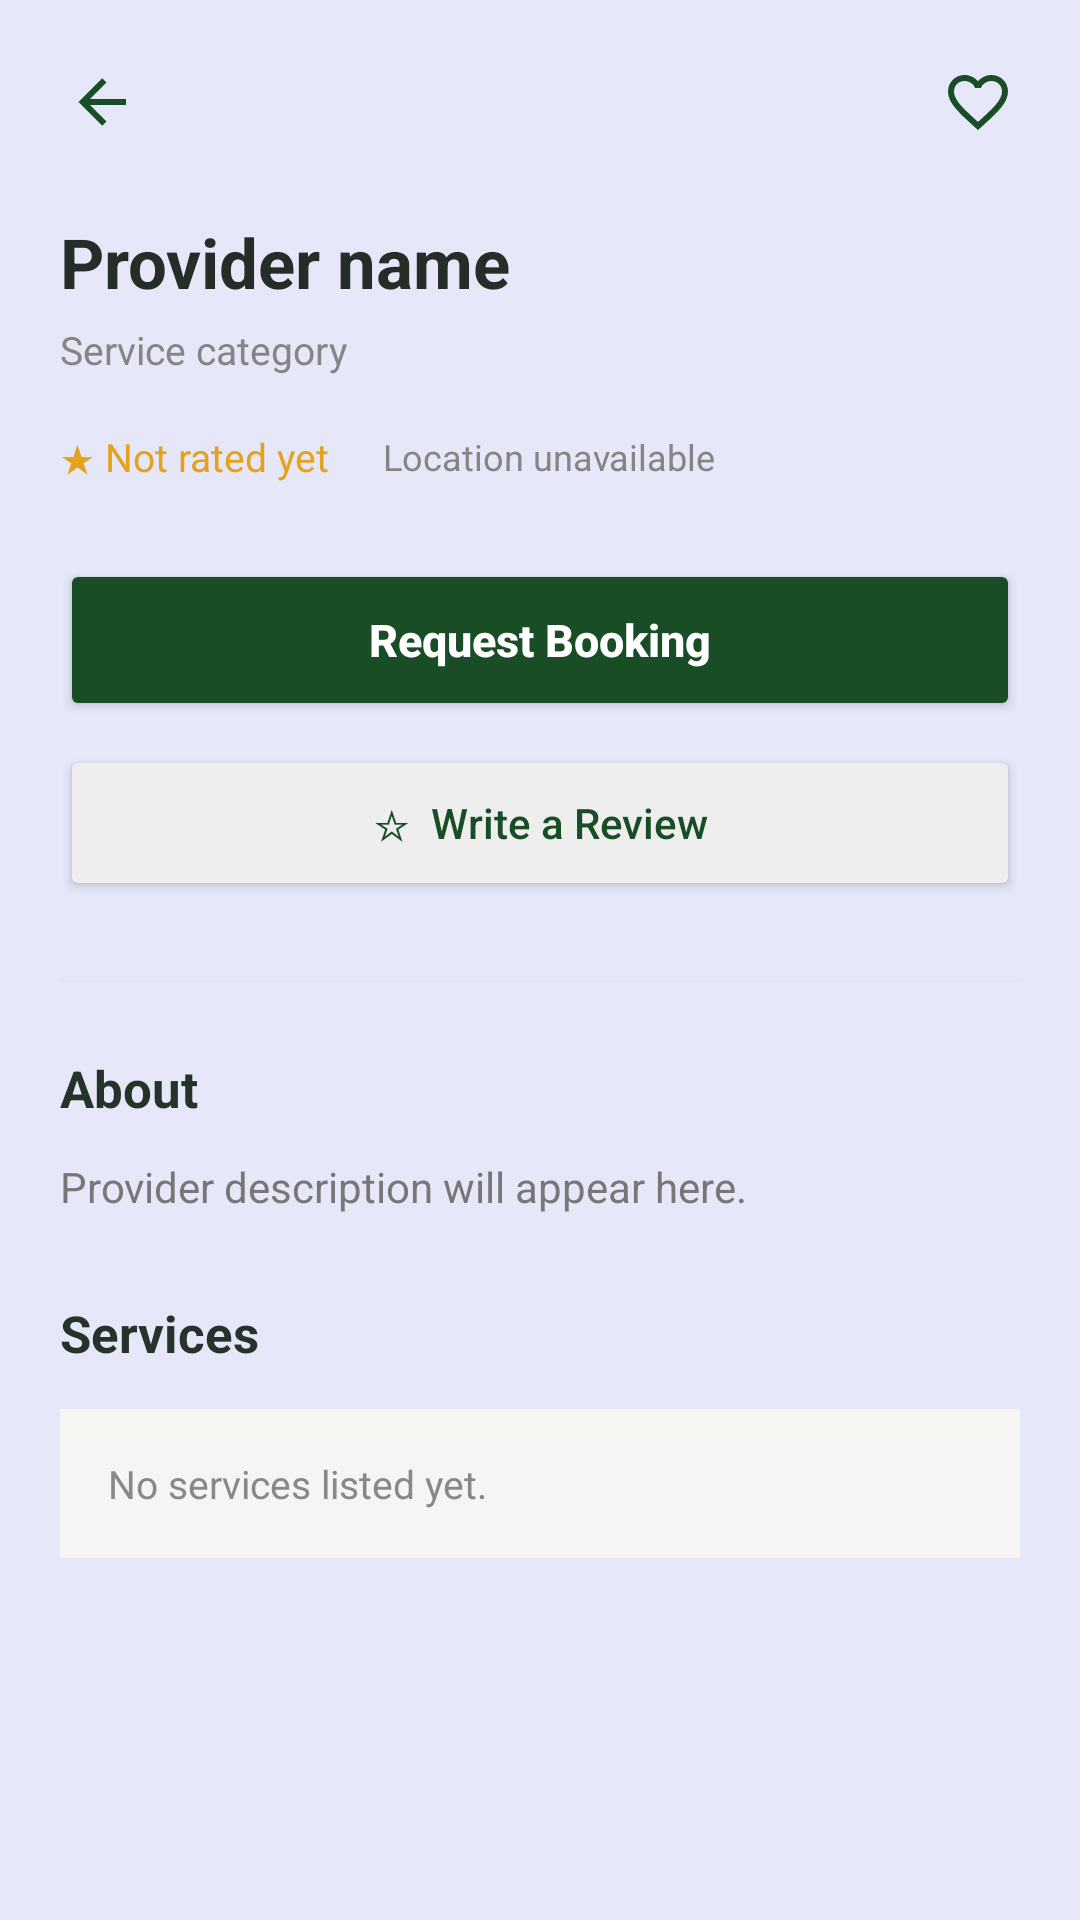

Where to tap for icons on this 1080w x 1920h app screen, as point (x, y):
Go back: point (102, 102)
save provider: point (978, 102)
